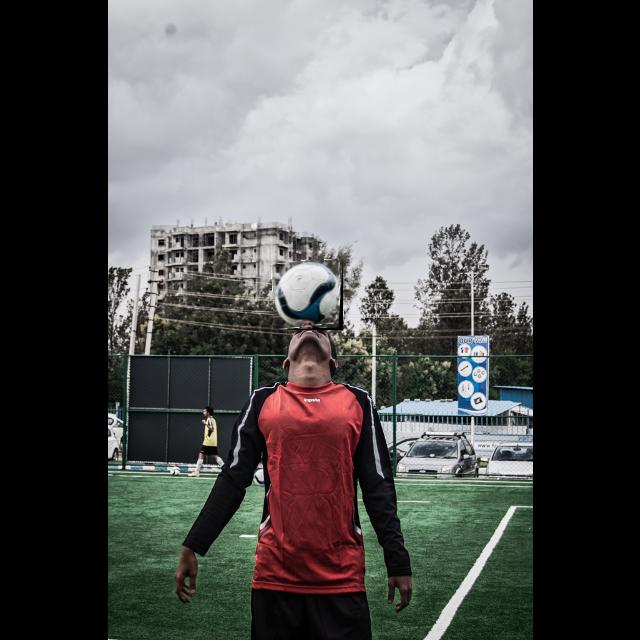Football: (273, 260, 343, 330)
